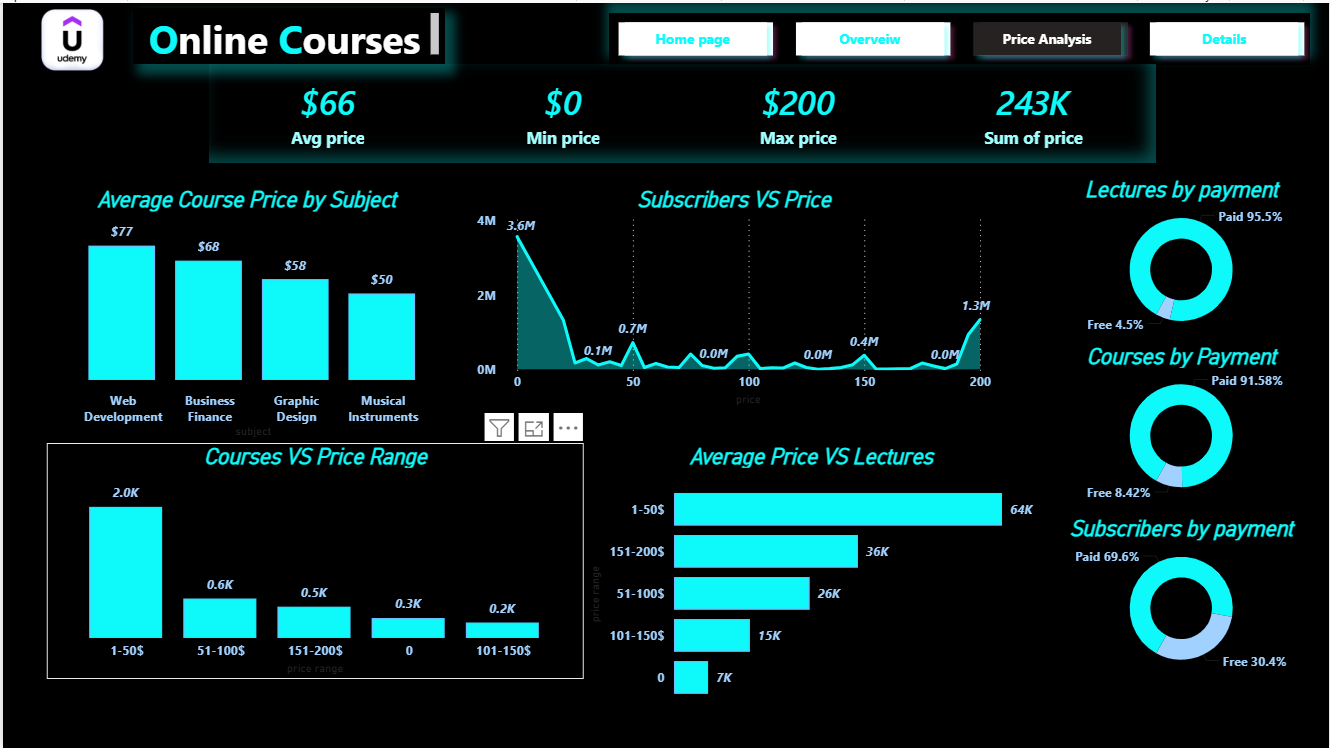

Layout of this report page (visuals, bound fields, positions):
{"tool":"powerbi","page":{"name":"Price Analysis","canvas":[1280,720],"ordinal":2},"visuals":[{"type":"areaChart","title":"Subscribers VS Price","fields":{"Category":["udemy.price"],"Y":["Sum(udemy.num_subscribers)"]},"box":[452.4,177.3,506.7,216],"z":0},{"type":"pageNavigator","box":[591.4,10,677.1,50],"z":1000},{"type":"clusteredBarChart","title":"Average Price VS Lectures","fields":{"Category":["udemy.price range"],"Y":["udemy.lectures"]},"box":[561.4,424.3,438.6,264.3],"z":2000},{"type":"image","box":[20,0,92.9,71.4],"z":3000},{"type":"textbox","box":[125.5,4.8,300.4,54.3],"z":4000},{"type":"cardVisual","fields":{"Data":["udemy.Avg price","udemy.Min price","udemy.Max price","Sum(udemy.price)"]},"box":[199.1,59.1,913.3,95.3],"z":5000},{"type":"donutChart","title":"Lectures by payment","fields":{"Category":["udemy.Payment"],"Y":["udemy.lectures"]},"box":[1020,167.1,235.7,160],"z":6000,"group":"g1"},{"type":"columnChart","title":"Courses VS Price Range","fields":{"Category":["udemy.price range"],"Y":["udemy.courses"]},"box":[42.2,424.7,518.8,228],"z":6000},{"type":"columnChart","title":"Average Course Price by Subject","fields":{"Category":["udemy.subject"],"Y":["udemy.Avg price"]},"box":[31.4,177.3,407.8,247.3],"z":7000},{"type":"donutChart","title":"Courses by Payment","fields":{"Category":["udemy.Payment"],"Y":["udemy.courses"]},"box":[1020,327.1,235.7,160],"z":7000,"group":"g1"},{"type":"pageNavigator","box":[585.4,10,677.1,50],"z":8000},{"type":"donutChart","title":"Subscribers by payment","fields":{"Category":["udemy.Payment"],"Y":["udemy.subscribers"]},"box":[1020,494.2,235.7,160],"z":8000,"group":"g1"},{"type":"group","id":"g1","title":"Group 1","box":[1020,167.1,235.7,487.1],"z":9000}]}

Visuals, with their boxes in screenshot pixels (x1, y1, x2, y2), scaled from the page's 1280x720 canvas onto the 1330x748 screenshot:
"Subscribers VS Price" areaChart: box=[470, 184, 997, 409]
pageNavigator: box=[615, 10, 1318, 62]
"Average Price VS Lectures" clusteredBarChart: box=[583, 441, 1039, 715]
image: box=[21, 0, 117, 74]
textbox: box=[130, 5, 443, 61]
cardVisual - udemy.Avg price x udemy.Min price: box=[207, 61, 1156, 160]
"Lectures by payment" donutChart: box=[1060, 174, 1305, 340]
"Courses VS Price Range" columnChart: box=[44, 441, 583, 678]
"Average Course Price by Subject" columnChart: box=[33, 184, 456, 441]
"Courses by Payment" donutChart: box=[1060, 340, 1305, 506]
pageNavigator: box=[608, 10, 1312, 62]
"Subscribers by payment" donutChart: box=[1060, 513, 1305, 680]
"Group 1" group: box=[1060, 174, 1305, 680]
